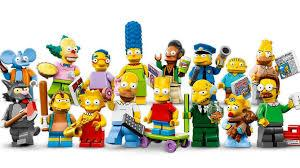Bart: (151, 74, 177, 135)
Homer: (108, 74, 149, 149)
Lisa: (74, 90, 107, 150)
Maggie: (223, 95, 261, 154)
Marge: (117, 15, 150, 75)
